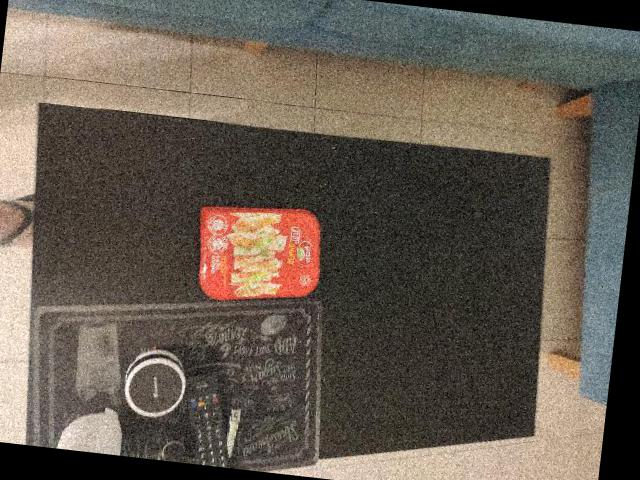cheese: (190, 197, 327, 311)
